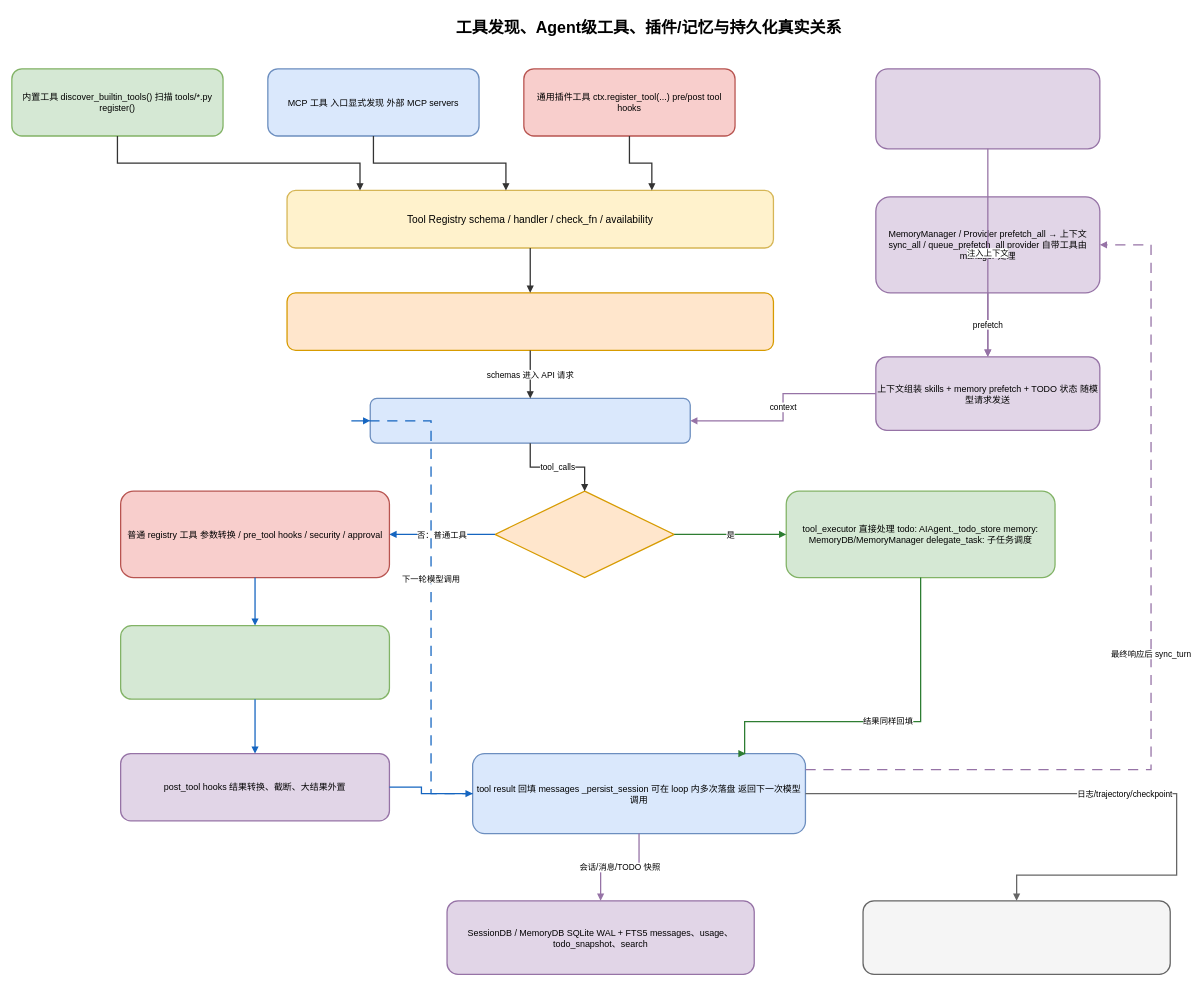
The diagram is 1202 pixels wide and 986 high, and some of its shapes have lost their labels. The shapes that lost their labels are listed below. From the top down, each one's box as (x1, y1, x2, y2) in pixels, then its label:
(875, 68, 1100, 149): Skills skill loader / slash command 作为上下文或用户消息注入 不经过 Tool Registry 执行
(286, 292, 774, 351): toolsets + enabled/disabled 环境变量 check_fn → 本轮 tools schemas
(369, 397, 691, 444): 模型返回 tool_calls
(494, 490, 675, 578): Agent 级工具？ todo / memory / delegate_task 或 memory_manager 工具
(120, 625, 390, 700): handle_function_call() registry.dispatch() 同步/异步 handler
(862, 900, 1171, 975): Profile-aware 文件状态 config、logs、skills、plugins trajectory、checkpoint、media
